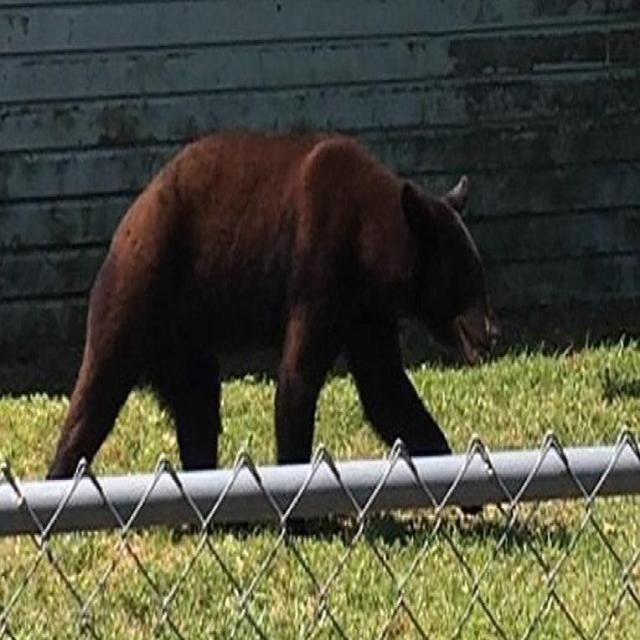Bear: (48, 130, 499, 481)
